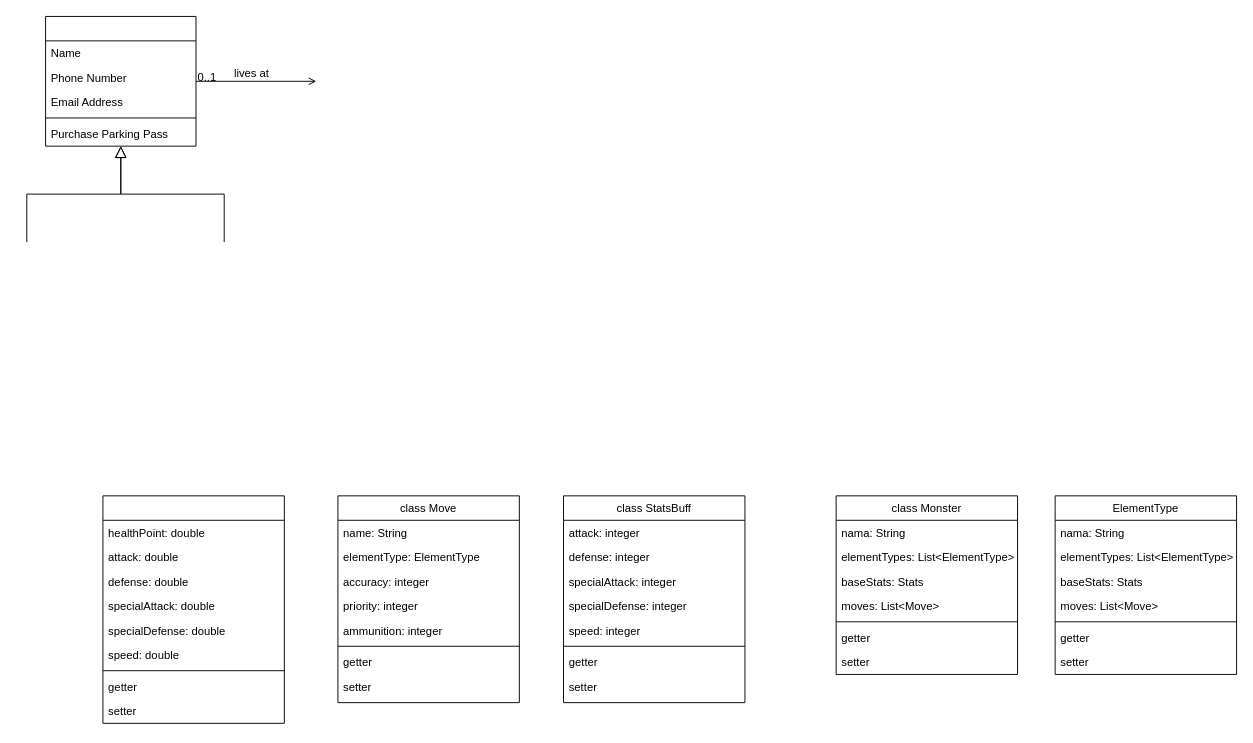
Image size: 1253x743. Some labels were removed from this diagram. The box of each missing label's shape, as (x1, y1, x2, y2) in pixels:
class Stats: (102, 495, 284, 723)
Person: (45, 16, 196, 146)
